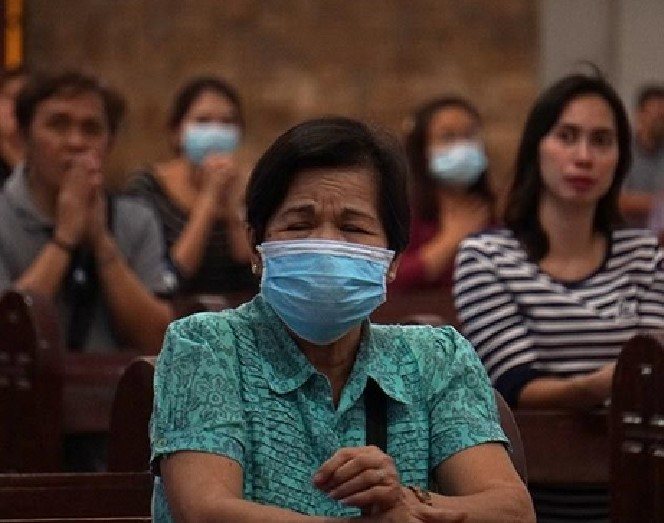face_no_mask: (12, 68, 125, 191), (534, 81, 624, 211)
face_with_mask: (249, 122, 398, 353), (163, 74, 243, 171), (409, 93, 485, 187)
